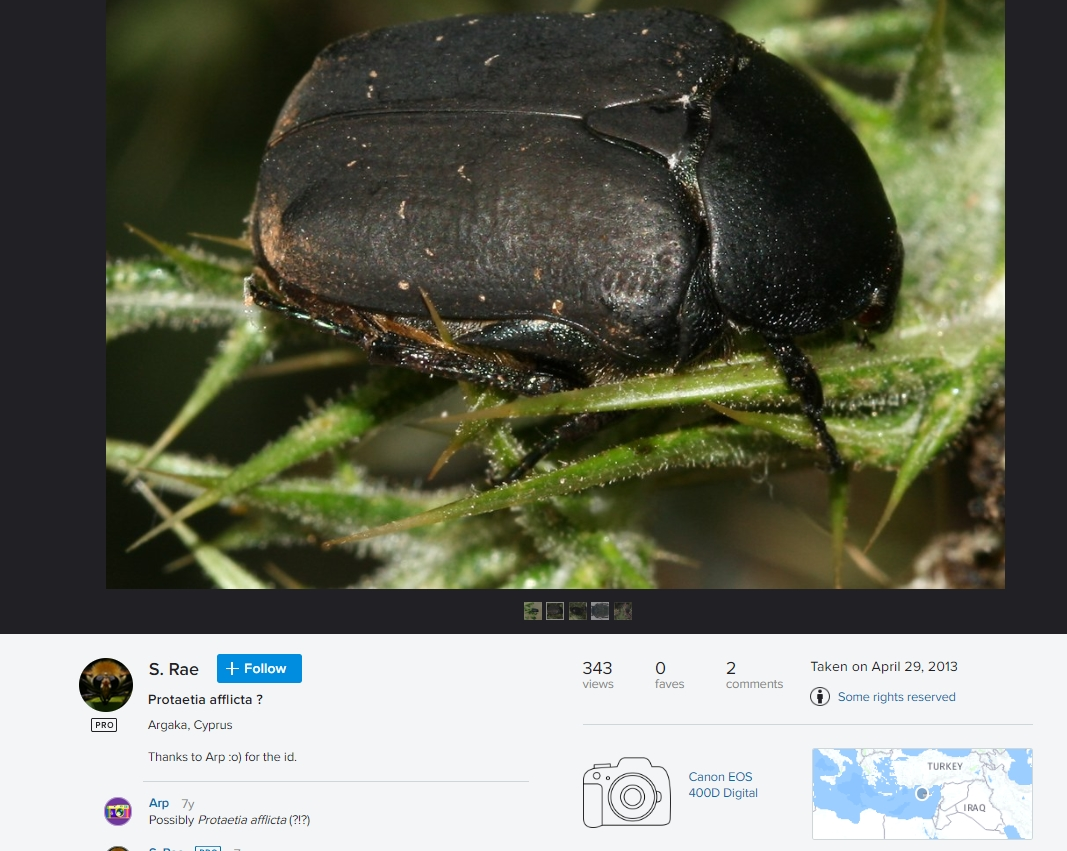Protaetia_afflicta: (237, 5, 897, 507)
